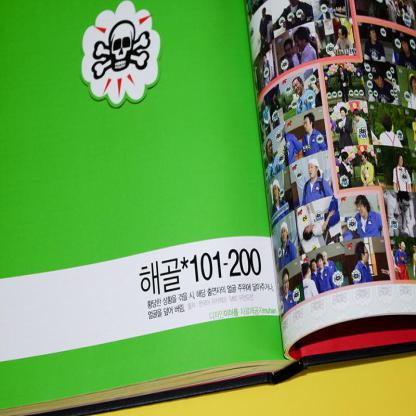skull: (90, 19, 154, 79)
